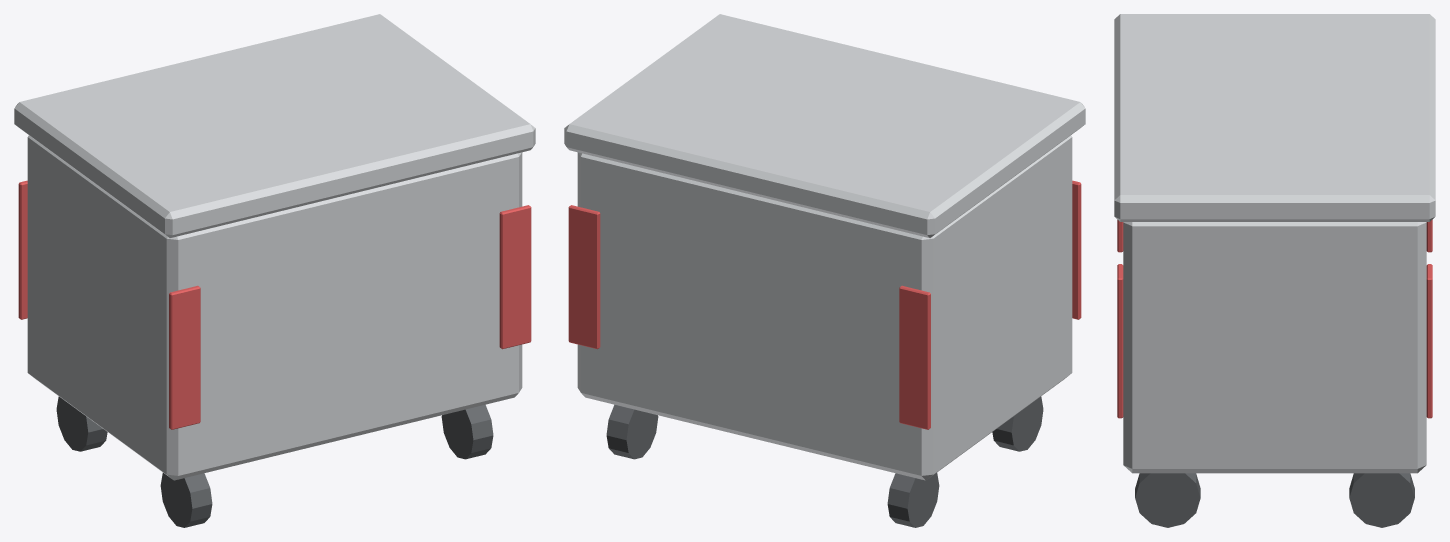
Rendered from Sultanbeyli_Dumpster.fbx.
3 views of the same model, side by side, from view 1: azimuth 30°, elevation 25°; view 2: azimuth 150°, elevation 25°; view 3: azimuth 270°, elevation 25° (orthographic). The views are drawn at different scales.
Visible parts, largest first — view 1: Sultanbeyli_Dumpster; view 2: Sultanbeyli_Dumpster; view 3: Sultanbeyli_Dumpster.
Part boxes in pixels (<box>): Sultanbeyli_Dumpster: <box>14,14,535,527</box>; Sultanbeyli_Dumpster: <box>564,14,1085,527</box>; Sultanbeyli_Dumpster: <box>1114,14,1435,527</box>.
Bounding box in the file's own units: 1.48 × 1.29 × 1.08.
